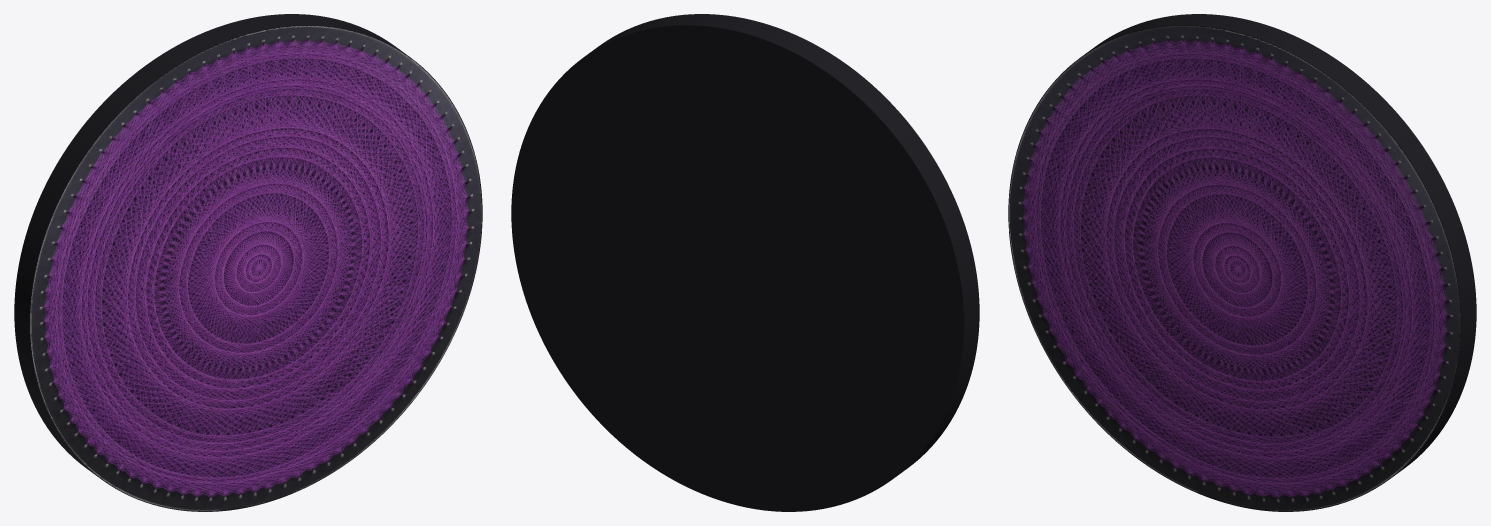
The model's file is lilac76.glb.
3 views of the same model, side by side, from view 1: azimuth 30°, elevation 25°; view 2: azimuth 150°, elevation 25°; view 3: azimuth 330°, elevation 25° (orthographic).
Visible parts, largest first — view 1: geometry_0; view 2: geometry_0; view 3: geometry_0.
Boxes of the visible parts, left/top/right/bottom form: geometry_0: left=14, top=14, right=482, bottom=511; geometry_0: left=511, top=14, right=979, bottom=511; geometry_0: left=1008, top=14, right=1476, bottom=511.
Bounding box in the file's own units: 0.76 × 0.76 × 0.0445.
Materials: 1 (1 with a texture image).
